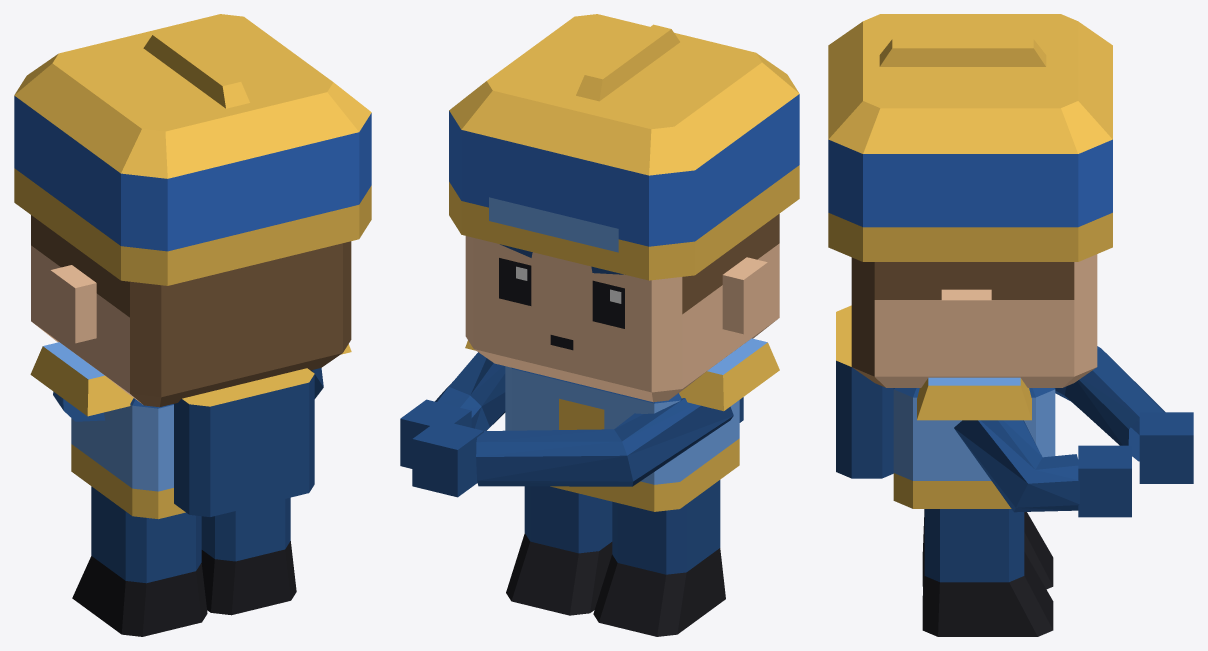
File: chr_soldier_c.glb
The picture shows the model from 3 angles, left to right: view 1: azimuth 30°, elevation 25°; view 2: azimuth 150°, elevation 25°; view 3: azimuth 270°, elevation 25°; orthographic projection. The views are drawn at different scales.
Visible parts, largest first — view 1: chr_soldier_c; view 2: chr_soldier_c; view 3: chr_soldier_c.
Boxes of the visible parts, bbox=[...] form: chr_soldier_c: bbox=[14, 14, 371, 636]; chr_soldier_c: bbox=[400, 14, 799, 636]; chr_soldier_c: bbox=[828, 14, 1193, 636].
Bounding box in the file's own units: 0.9329 × 1.69 × 1.02.
1 material, 1 textured.
